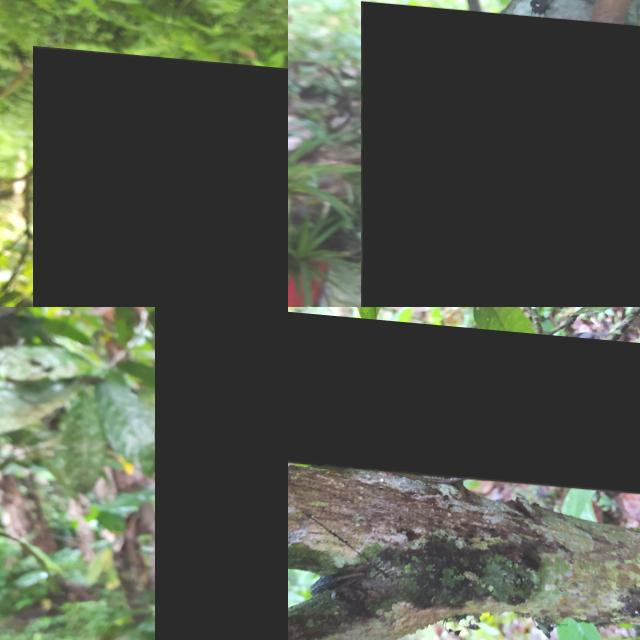Fitoftora: (33, 42, 288, 307)
Monilia: (361, 0, 640, 307), (288, 307, 640, 488), (155, 307, 288, 640)
Sana: (288, 237, 328, 307)
